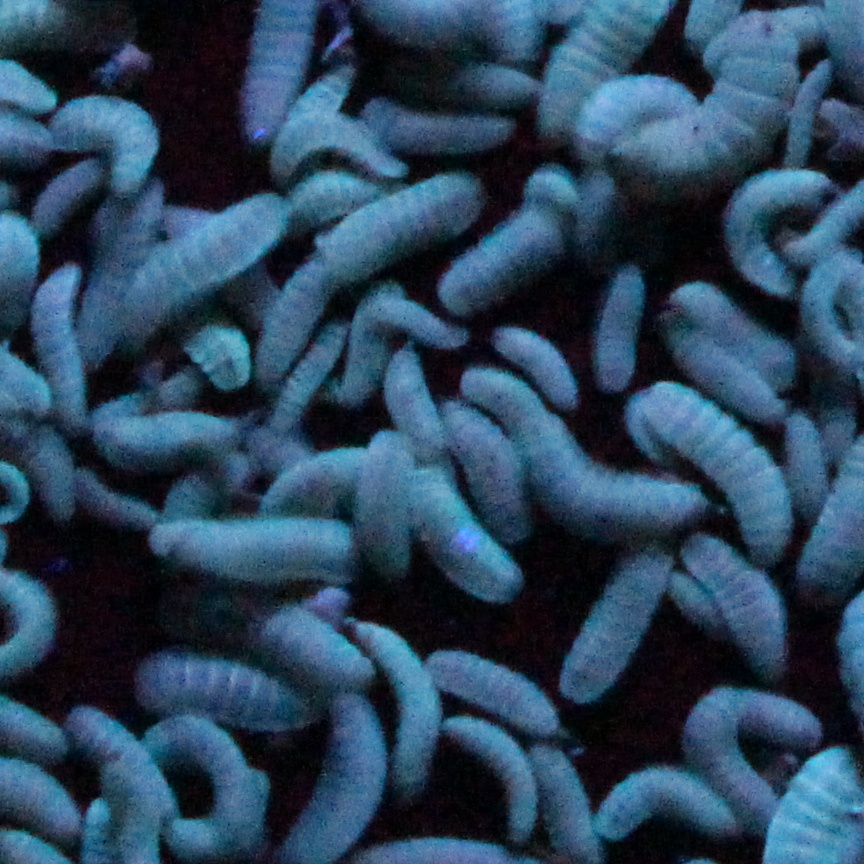larve: (469, 371, 714, 536), (646, 376, 805, 564), (608, 21, 795, 177), (117, 193, 288, 345), (148, 507, 377, 595), (670, 682, 823, 813), (345, 617, 445, 808), (564, 545, 676, 712), (408, 452, 522, 602), (141, 720, 262, 860), (686, 536, 793, 683), (322, 179, 489, 272), (139, 657, 322, 734), (664, 317, 791, 424), (720, 169, 822, 296), (441, 208, 567, 307), (69, 700, 173, 819), (443, 714, 538, 843), (48, 91, 169, 190), (426, 648, 560, 736), (676, 286, 793, 386), (34, 258, 91, 440), (598, 769, 734, 836), (365, 100, 517, 152), (381, 346, 453, 452), (274, 321, 348, 424), (98, 412, 243, 462), (495, 326, 577, 408), (595, 264, 646, 388)
